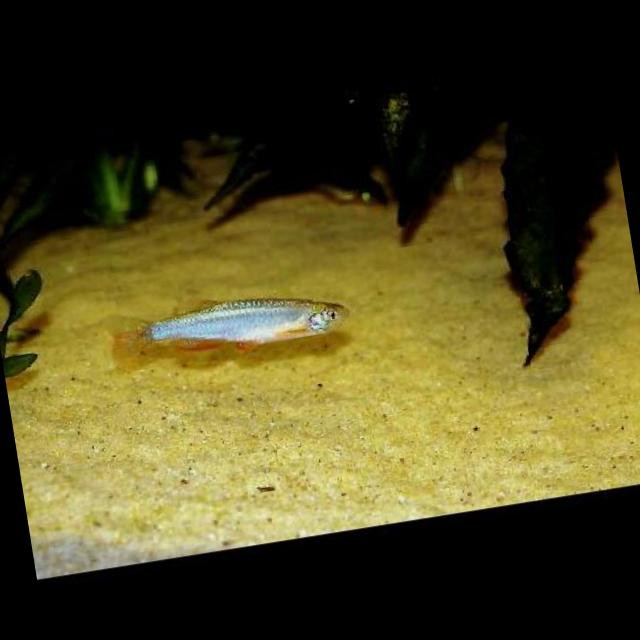ZebraFish: (98, 270, 354, 371)
